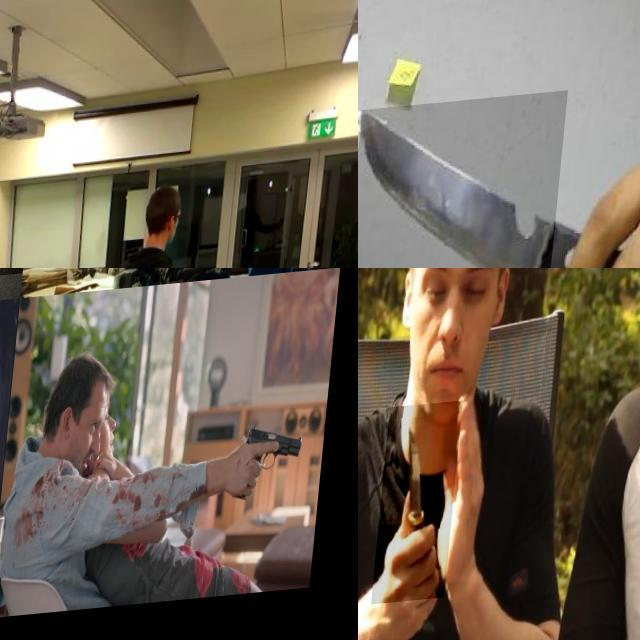-: (358, 98, 576, 268), (381, 404, 468, 606)
gun-knife-thesis - v11 Yolov5 augmented: (0, 268, 134, 398), (0, 475, 53, 638), (240, 426, 317, 523), (110, 268, 172, 309)
